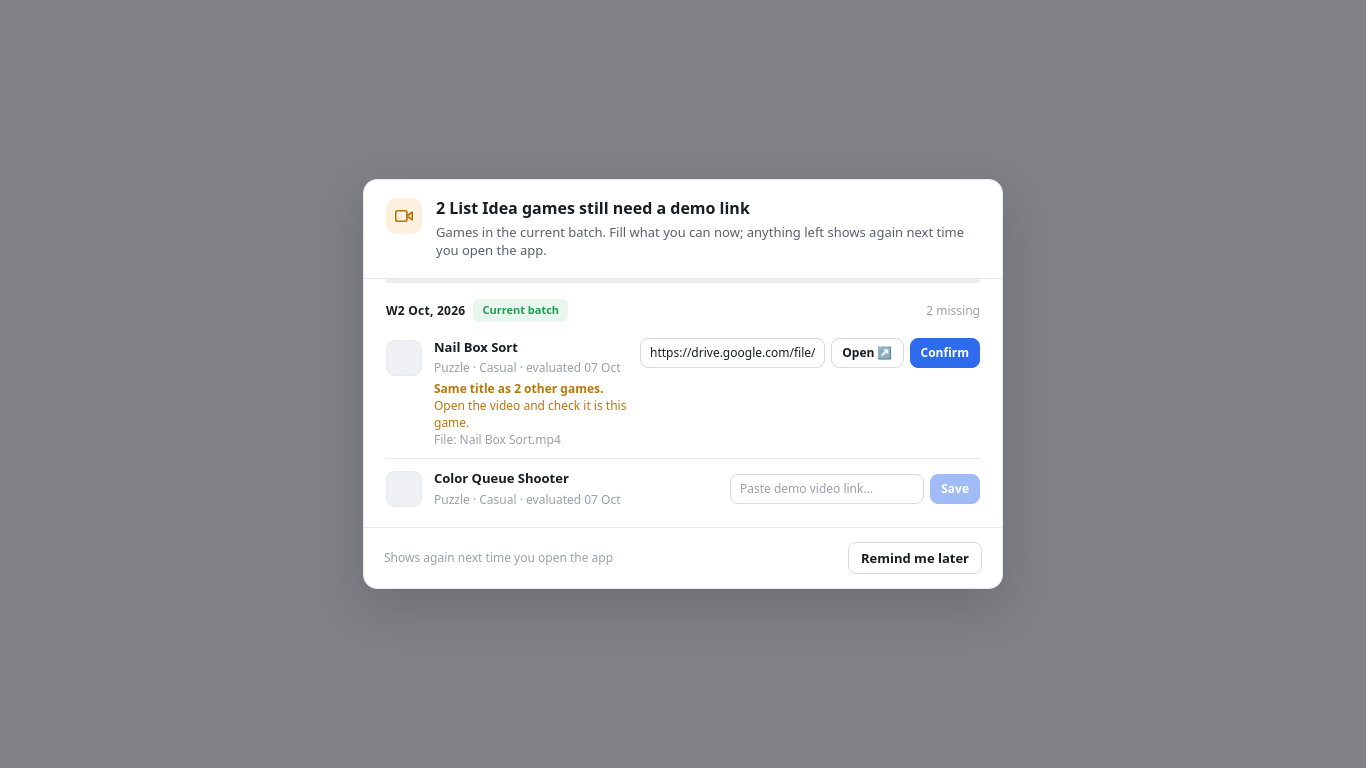
Test case: MissingDemoPrompt › suggested link › turns back into Save when the evaluator edits the link, and saves what they typed
Expected: the dialog is shown, [363, 179, 1003, 589]
Replace the text in the field named "Demo link for Nail Box Sort" with "https://mine": (733, 353) [640, 338, 825, 368]
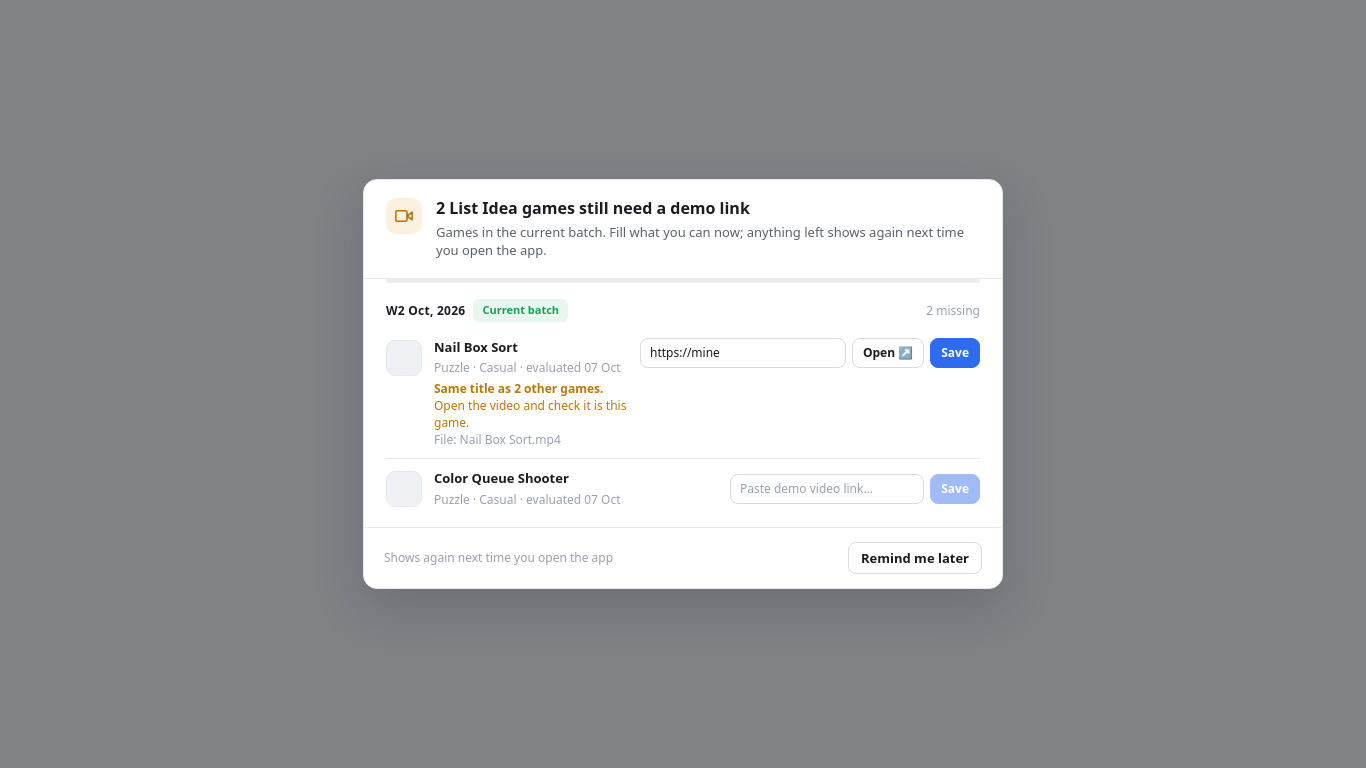
Click the button with aria-label "Save demo link for Nail Box Sort": (955, 353) [930, 338, 980, 368]
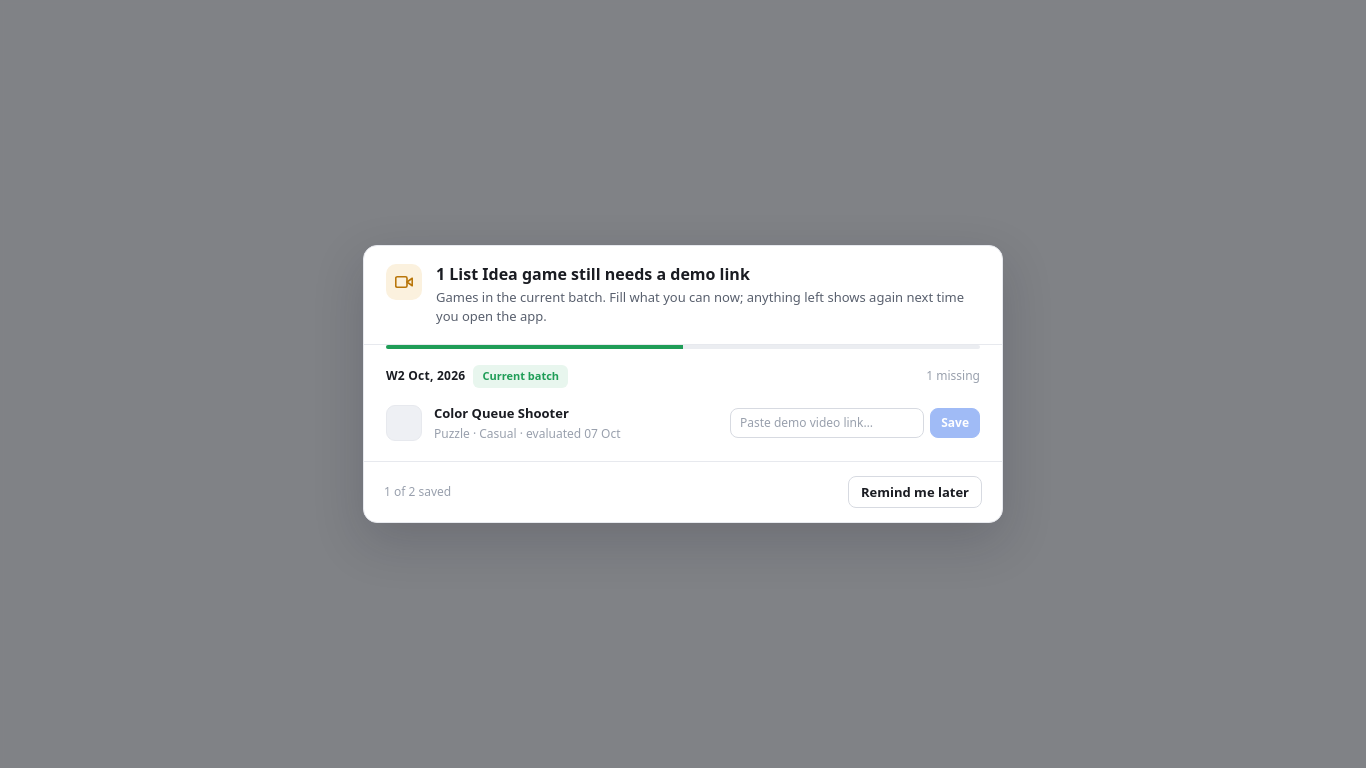
Expected: the text "Nail Box Sort" is gone
